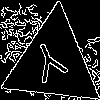Y: (28, 38, 73, 93)
